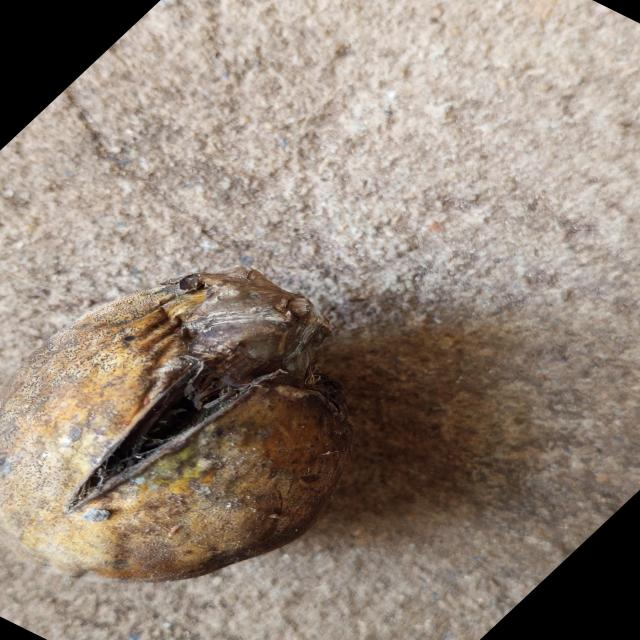damaged: (0, 271, 356, 583)
